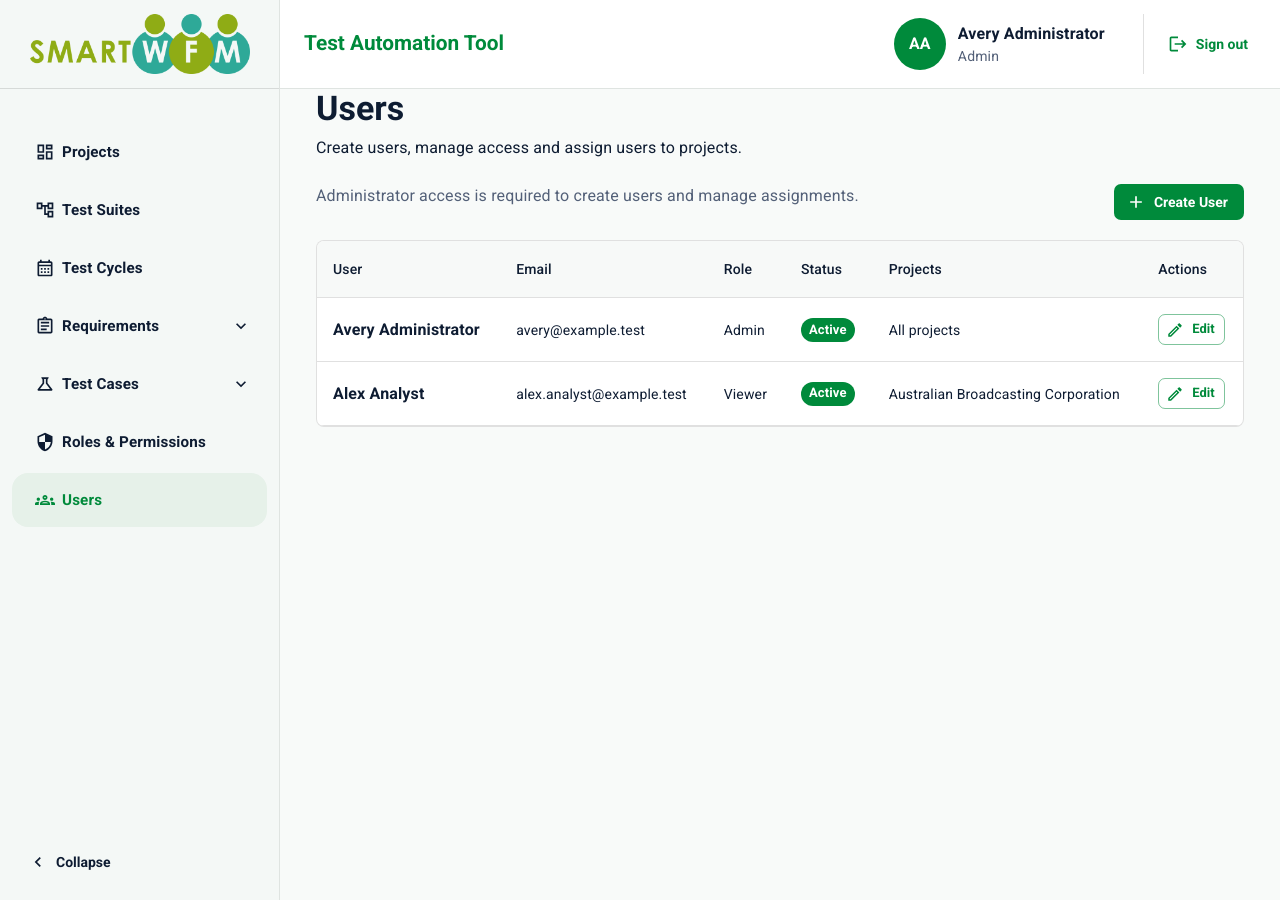
Test: App shell › lets an Administrator edit a user from the Users table and refreshes the list
This screenshot has width=1280, height=900.
Expected: the column heading "Actions" is shown, x1=1142 y1=242 x2=1243 y2=298
Click the button with aria-label "Edit Alex Analyst". click: (1191, 394)
box: x1=1158 y1=378 x2=1225 y2=409
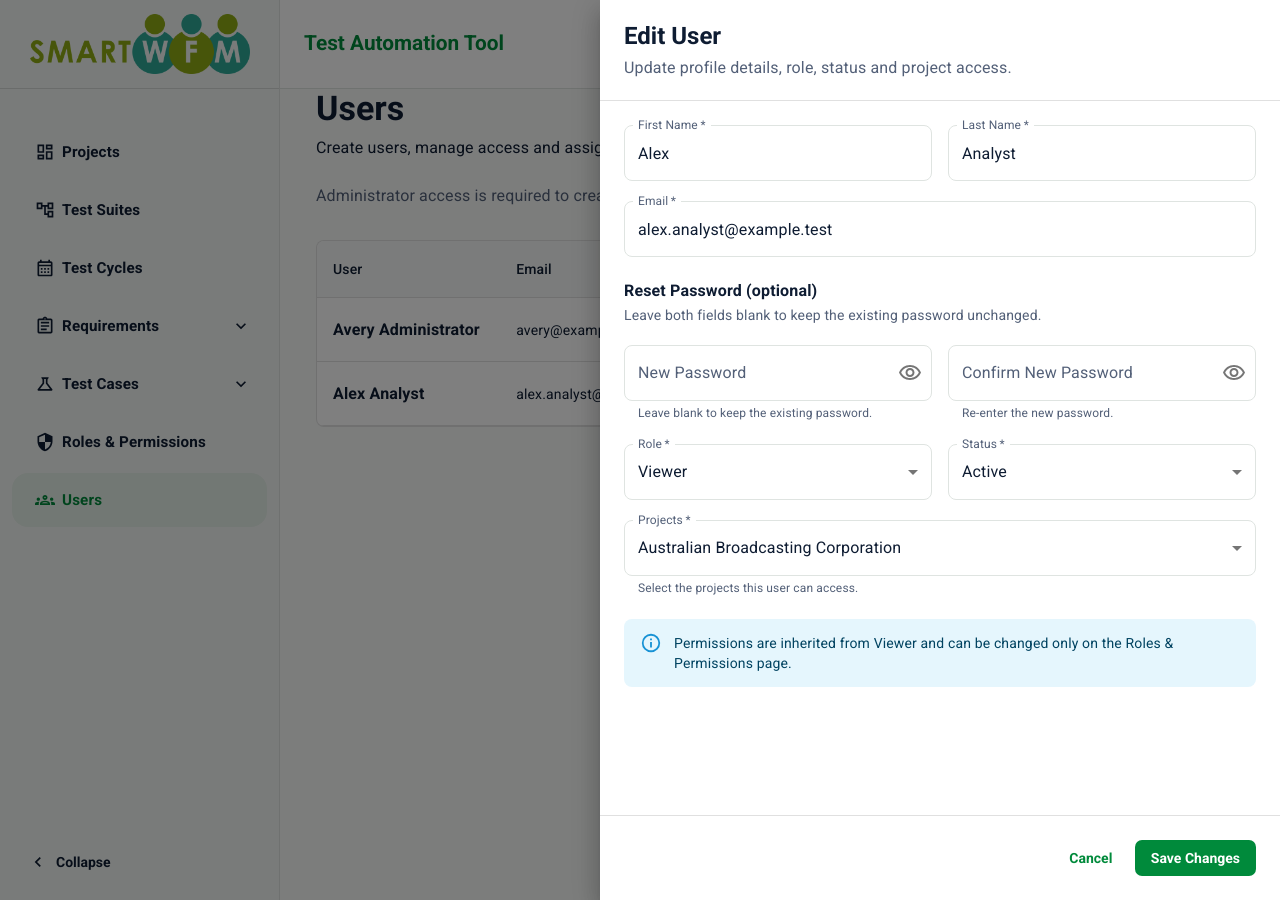
Expected: the heading "Edit User" is shown, x1=624 y1=22 x2=721 y2=50
Expected: the field labelled "First Name *" holds "Alex"
Expected: the field labelled "Last Name *" holds "Analyst", x1=948 y1=125 x2=1256 y2=181
Replace the text in the field labelled "First Name *" with "Alexa". click: (778, 153)
box: x1=624 y1=125 x2=932 y2=181
Click the dropdown named "Role". click: (663, 472)
box: x1=638 y1=462 x2=687 y2=481
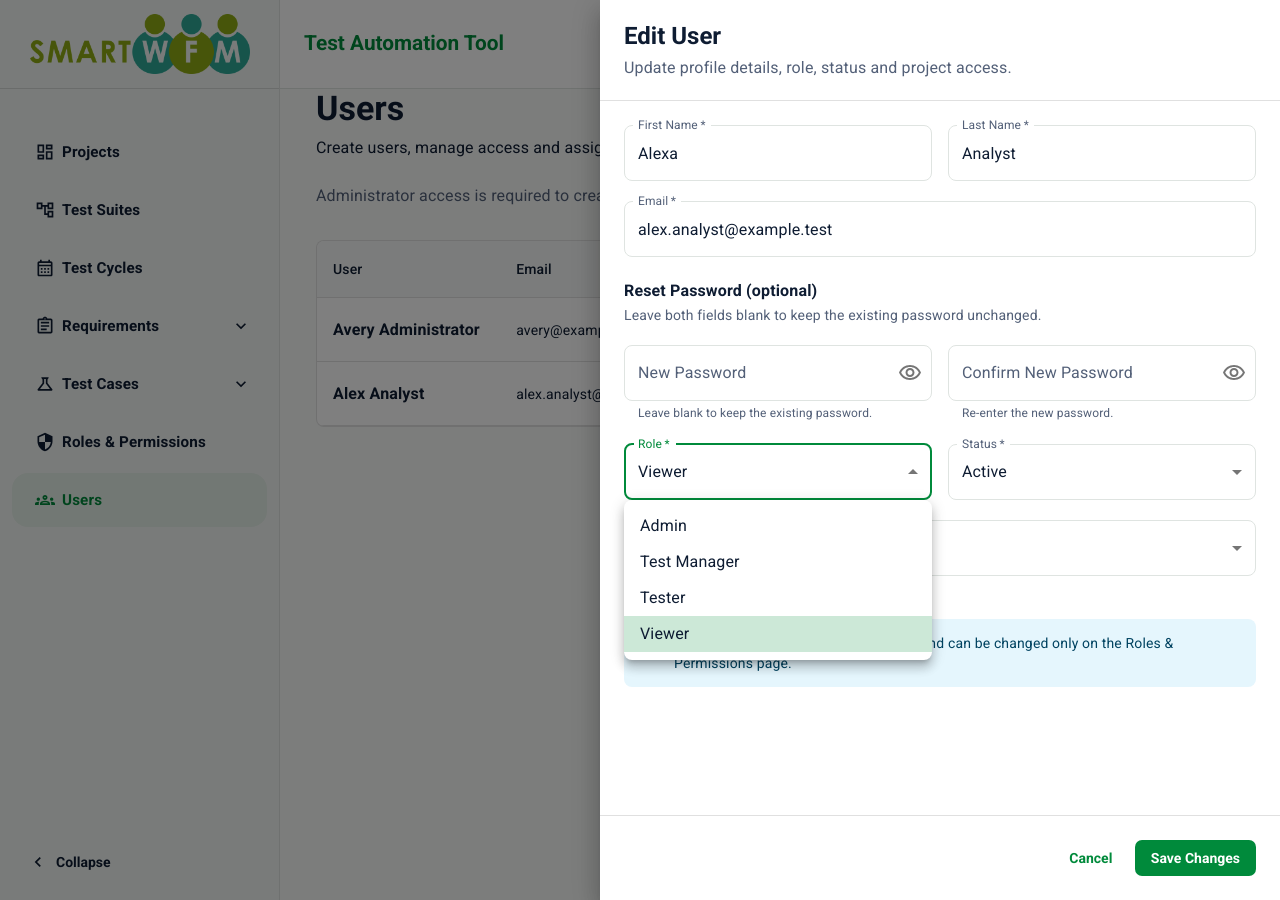
Click the option "Test Manager". click: (690, 562)
box: x1=640 y1=552 x2=740 y2=571
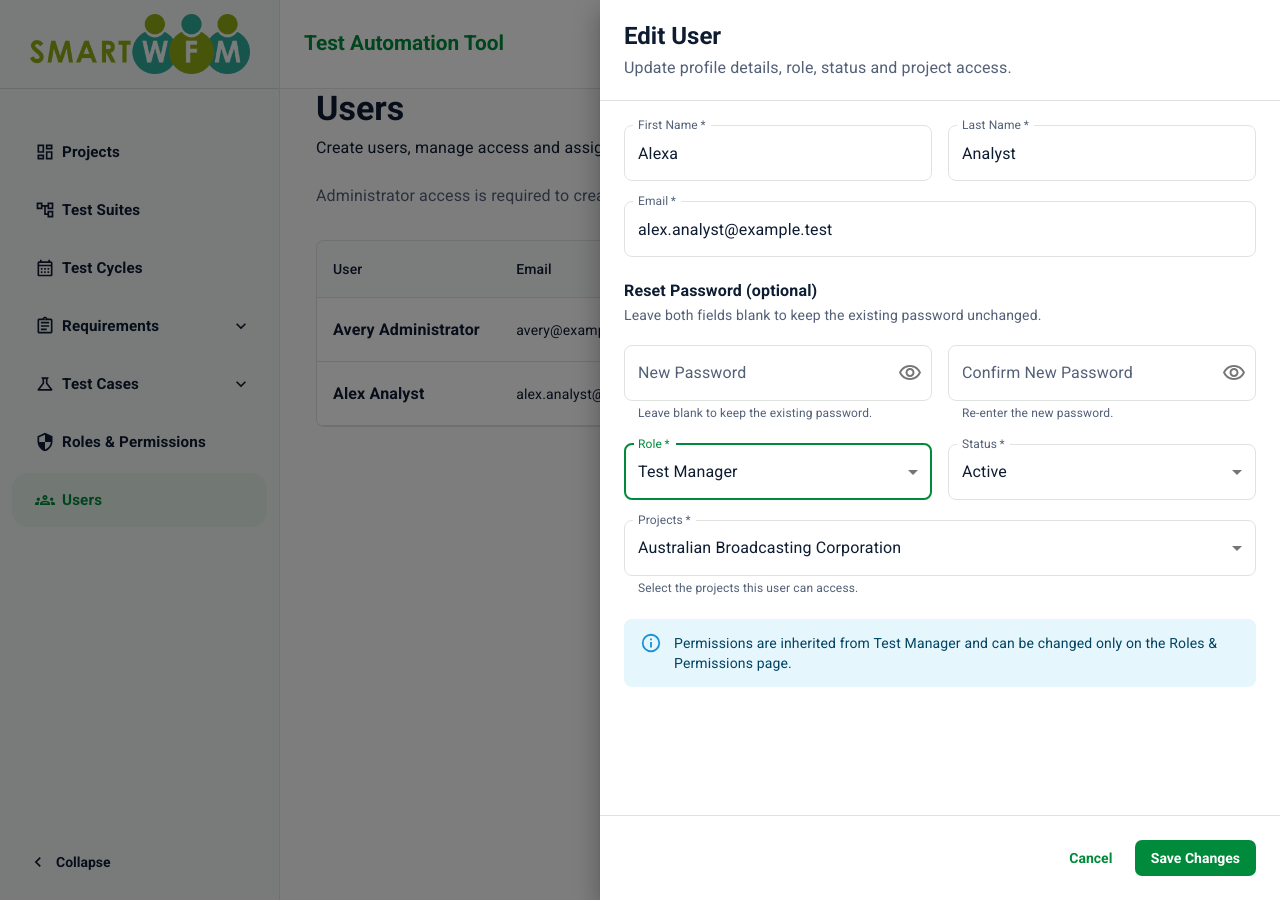
Expected: the text "Permissions are inherited from Test Manager" is shown, x1=674 y1=625 x2=1240 y2=681
Type "Updated1!Password" into the password field labelled "New Password". click: (753, 373)
box: x1=624 y1=345 x2=882 y2=401
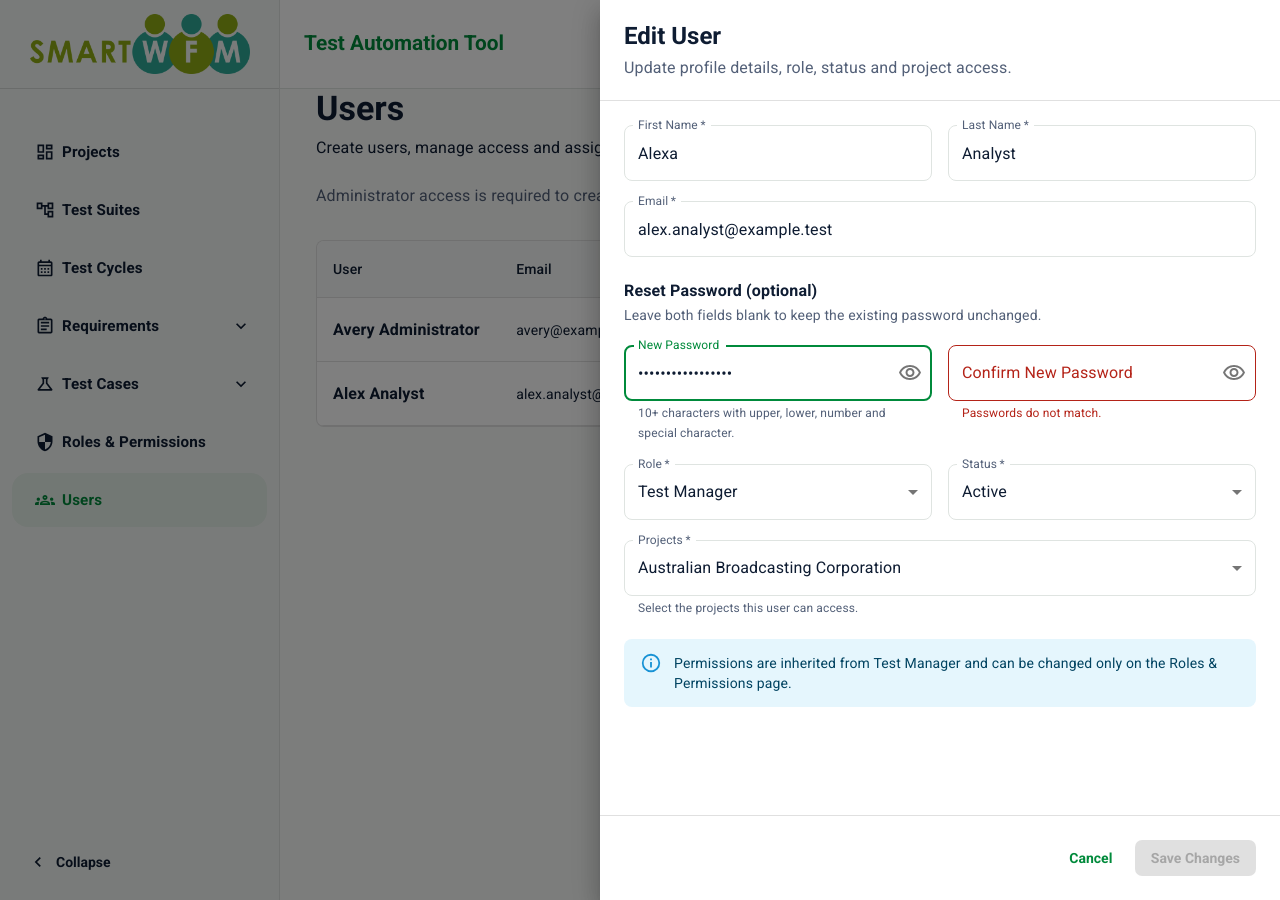
Type "Updated1!Password" into the password field labelled "Confirm New Password". click: (1077, 373)
box: x1=948 y1=345 x2=1206 y2=401
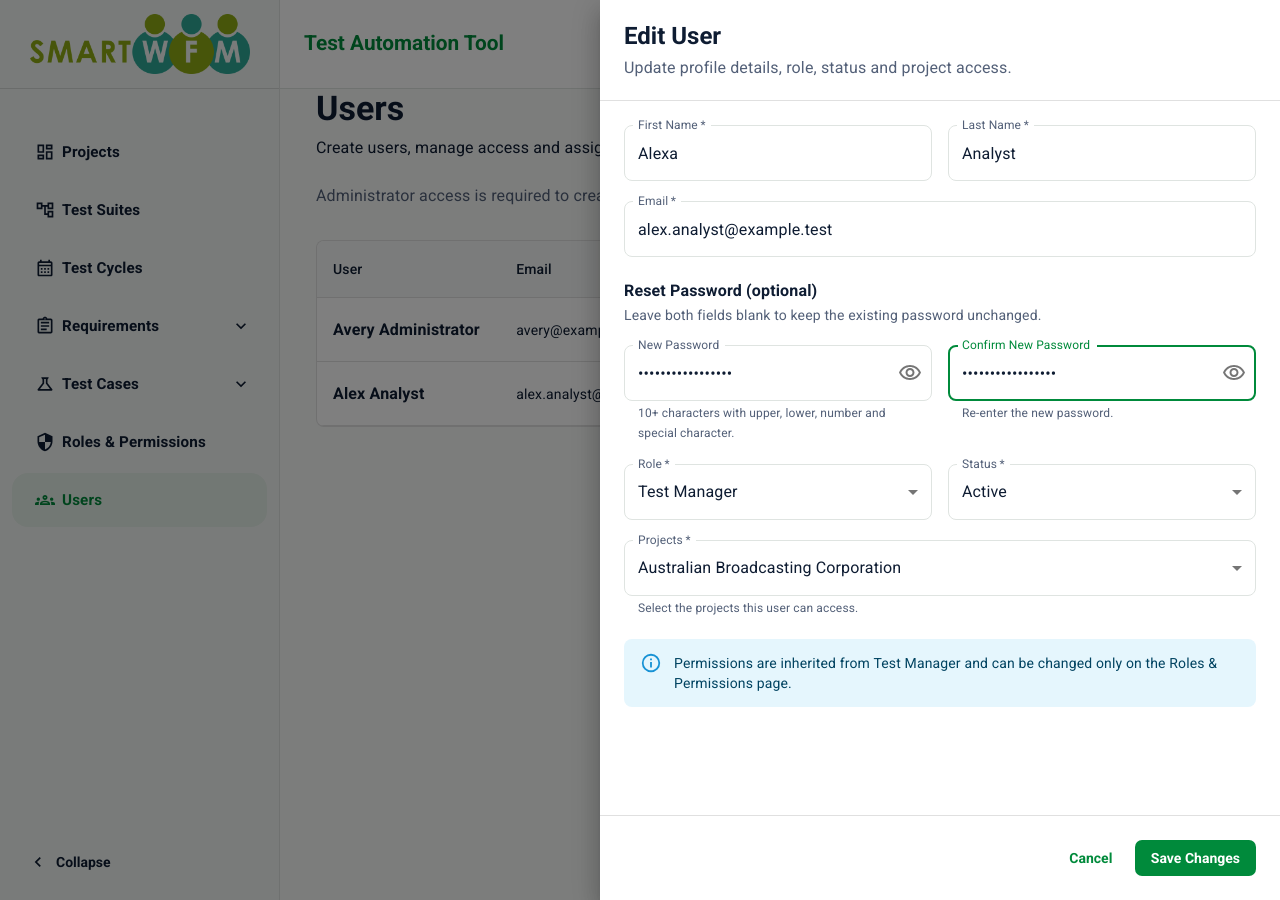
Click the button "Save Changes". click: (1195, 858)
box: x1=1135 y1=840 x2=1256 y2=876
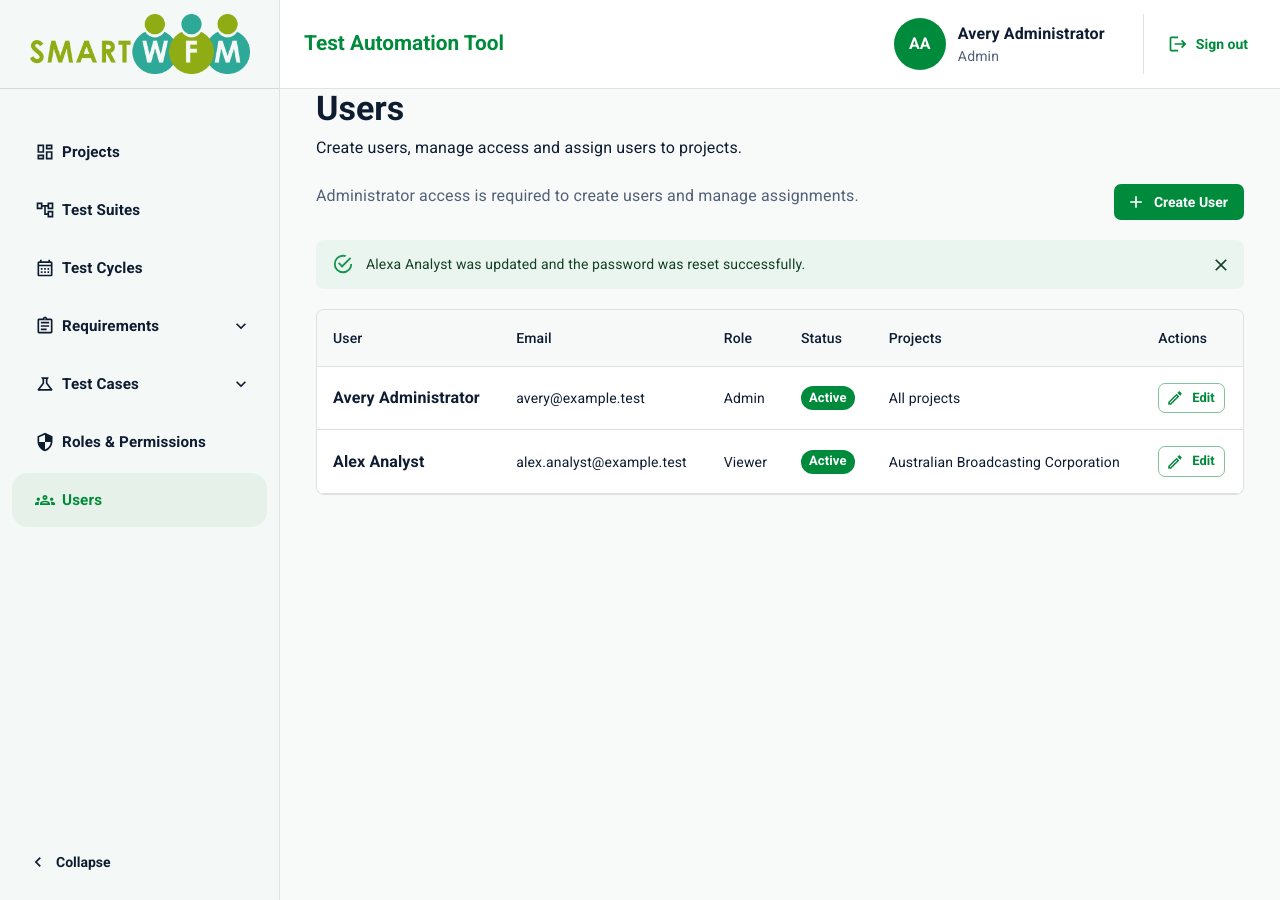
Expected: the text "Alexa Analyst was updated and the password was reset successfully." is shown, x1=366 y1=256 x2=805 y2=272
